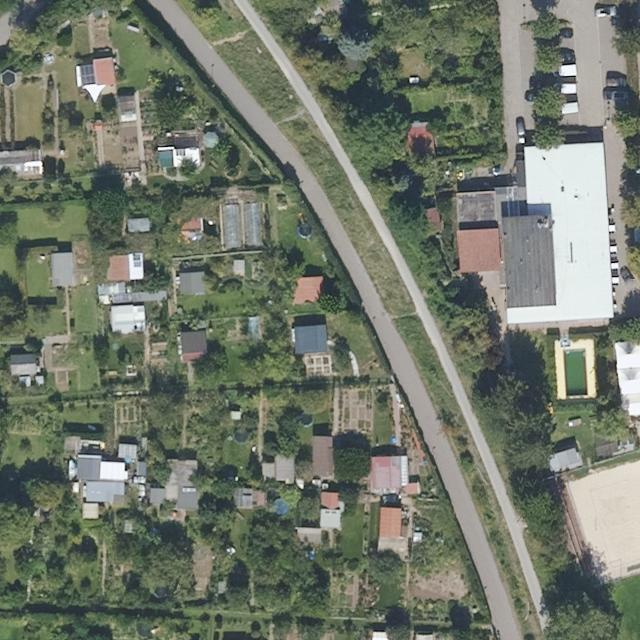PV: (75, 60, 98, 90)
